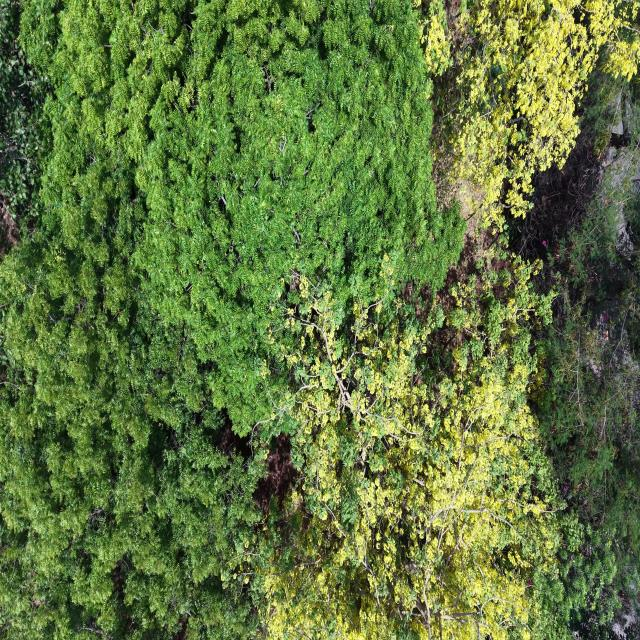VEGETATION_TREE: (0, 0, 638, 639), (0, 2, 463, 638), (263, 252, 559, 639), (513, 76, 639, 637), (415, 0, 639, 226), (0, 0, 48, 253)
